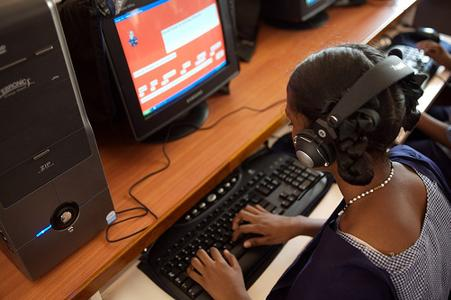person: (187, 45, 451, 300)
